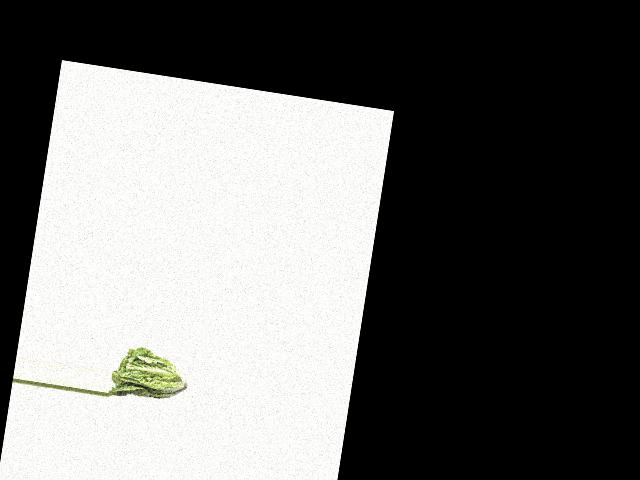lettuce: (108, 340, 190, 405)
